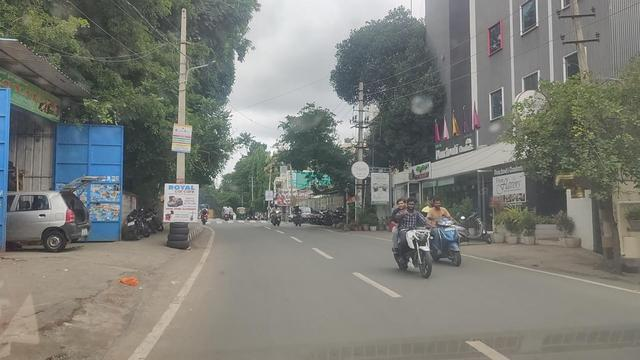LMV: (392, 196, 431, 275), (430, 198, 456, 262)
RoadDamages: (55, 283, 134, 341)
